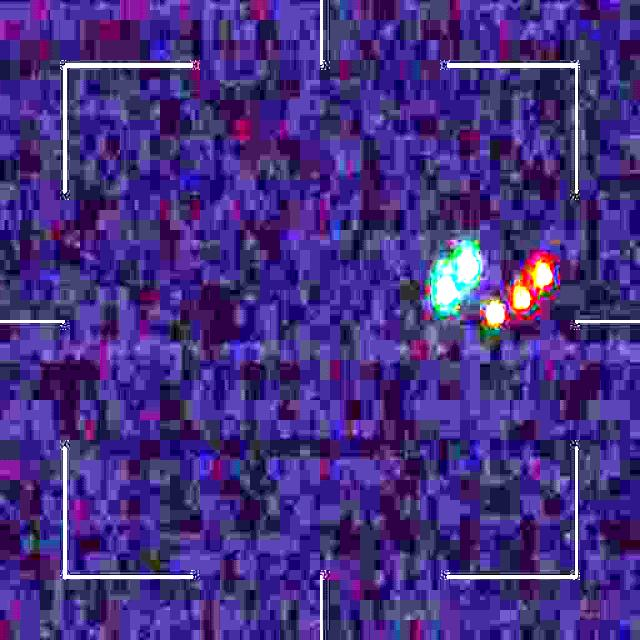bird: (435, 246, 551, 326)
